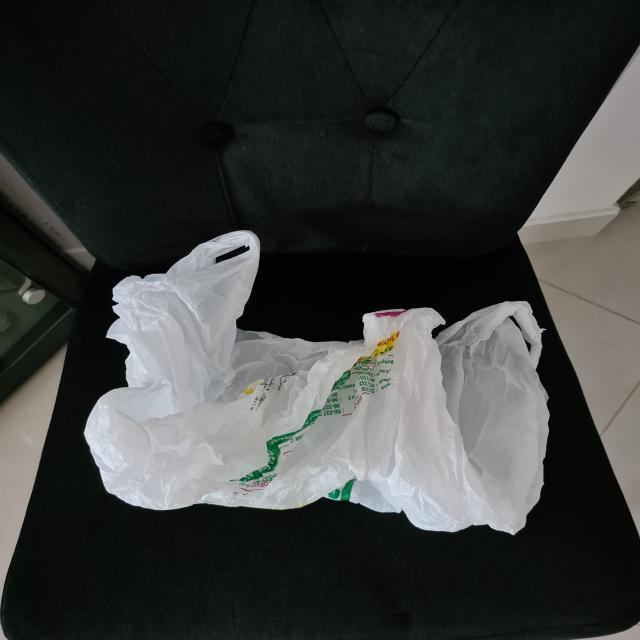Plastic_Bag: (54, 224, 573, 548)
